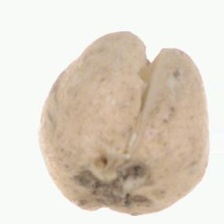L1: (74, 175, 147, 217), (121, 29, 186, 69)
L2: (38, 31, 211, 216)
